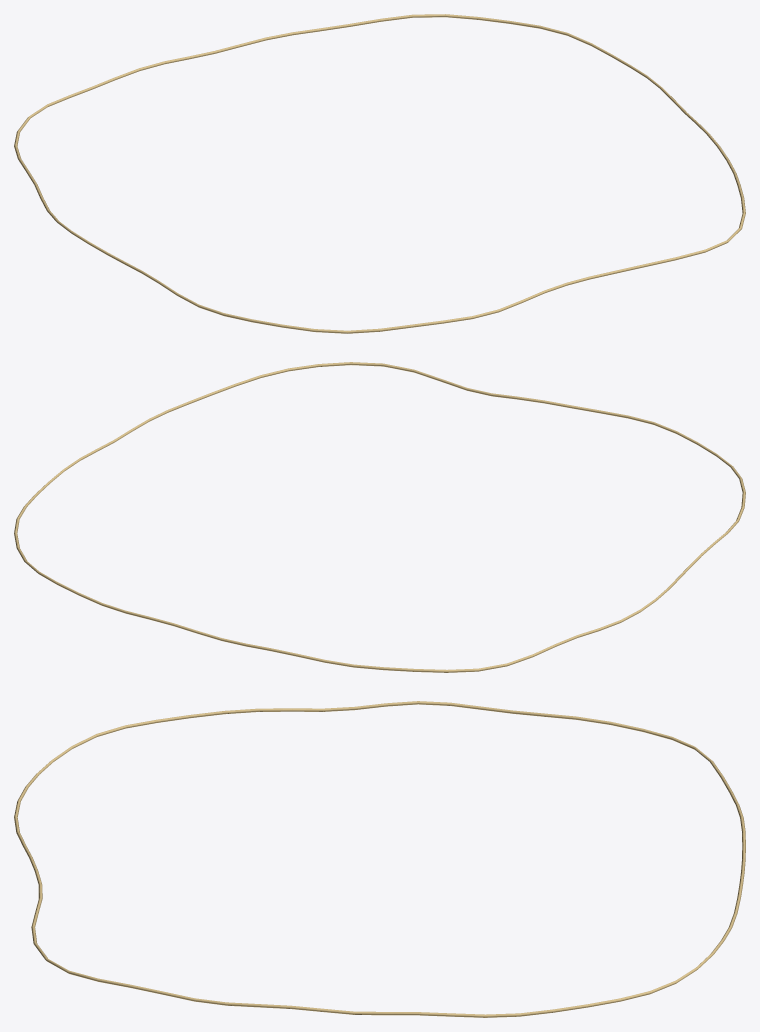
Rendered from LK_float_rope_soft.glb.
3 views of the same model, one above another, from view 1: azimuth 30°, elevation 25°; view 2: azimuth 150°, elevation 25°; view 3: azimuth 270°, elevation 25° (orthographic). The views are drawn at different scales.
Parts seen in each view (by area): view 1: LK_float_rope_soft; view 2: LK_float_rope_soft; view 3: LK_float_rope_soft.
Boxes of the visible parts, x1,y1,x2,y2 form: LK_float_rope_soft: (14, 14, 745, 333); LK_float_rope_soft: (14, 362, 745, 672); LK_float_rope_soft: (14, 701, 745, 1017).
Size of the model in its own units: 8.74 by 0.074 by 8.63.
